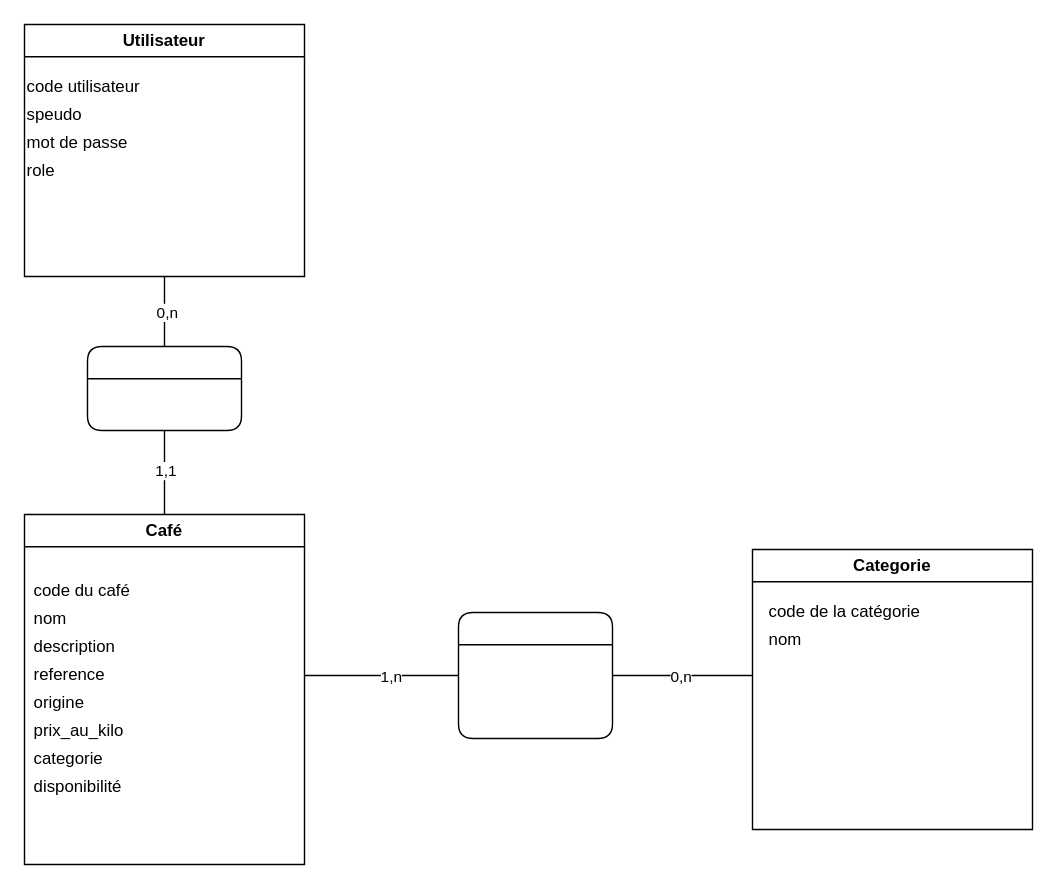
The diagram is 1057 pixels wide and 889 high, and some of its shapes have lost their labels. Here are the shapes that lost their labels. From the top down, the centre of each, then its label:
point (163, 387): Ajoute
point (534, 674): Appartient à
